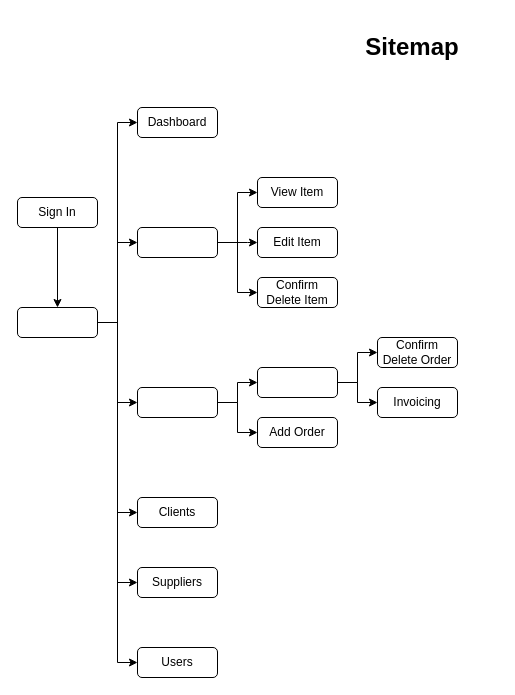
Some shapes in this 515 by 695 pixel diagram are drawn without their labels. Each missing label, with the centre of its shape:
Home: [57,322]
Inventory: [177,242]
Orders: [177,402]
View Order: [297,382]
